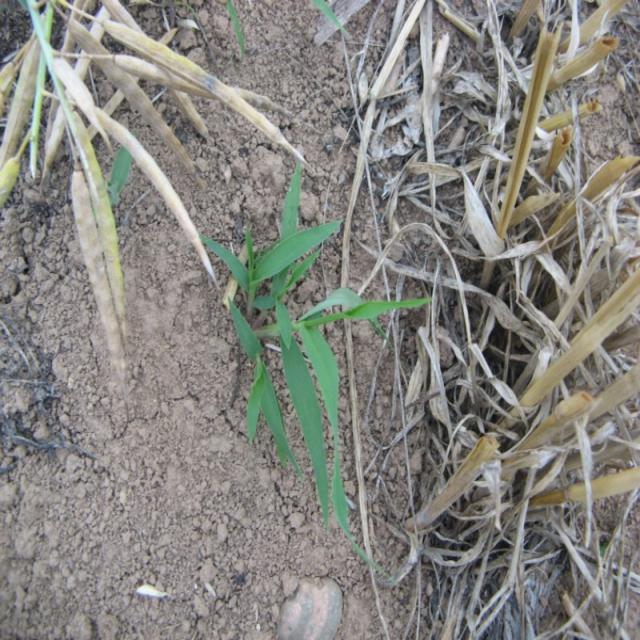bg: (200, 154, 432, 541)
